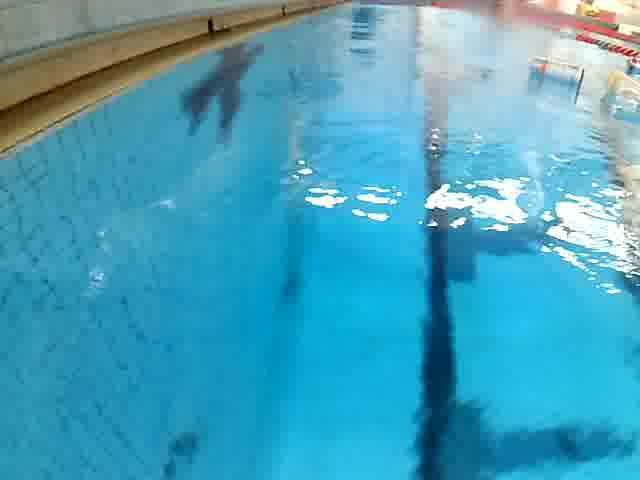Can: (520, 49, 586, 97), (604, 59, 640, 136)
